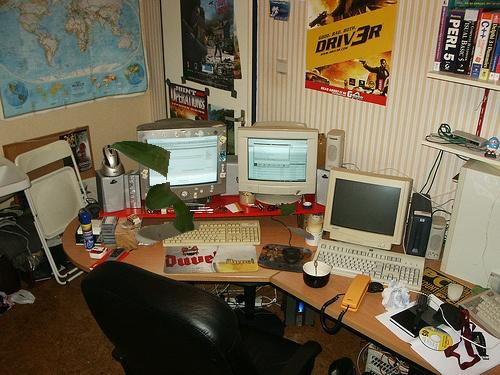tampered: (108, 141, 314, 244)
